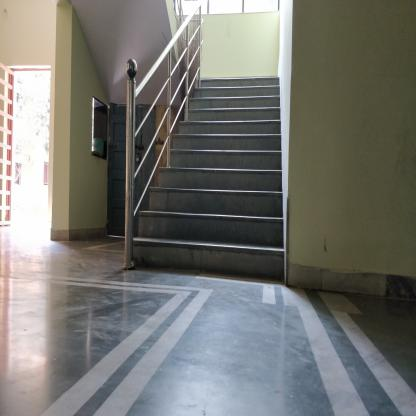stairs: (203, 75, 279, 287)
